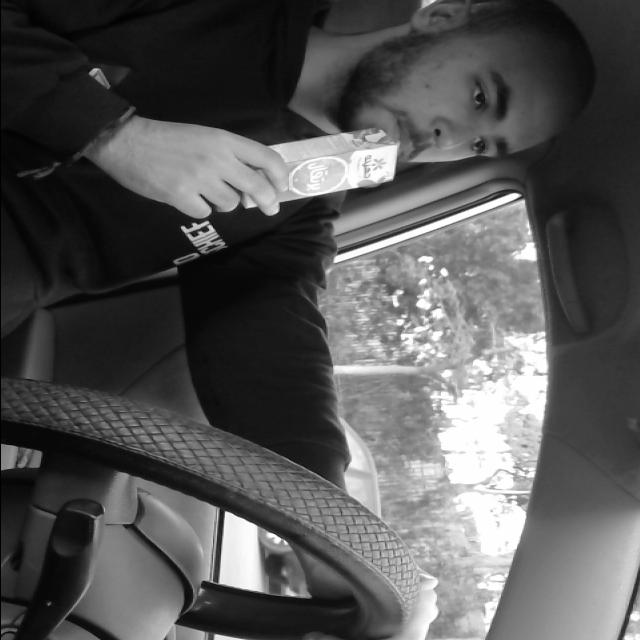drinking: (233, 124, 417, 208)
